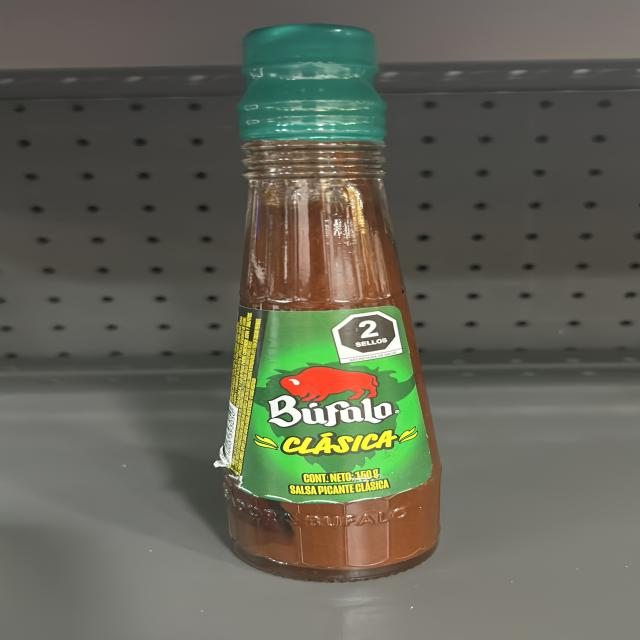salsaBufalo: (225, 23, 443, 580)
